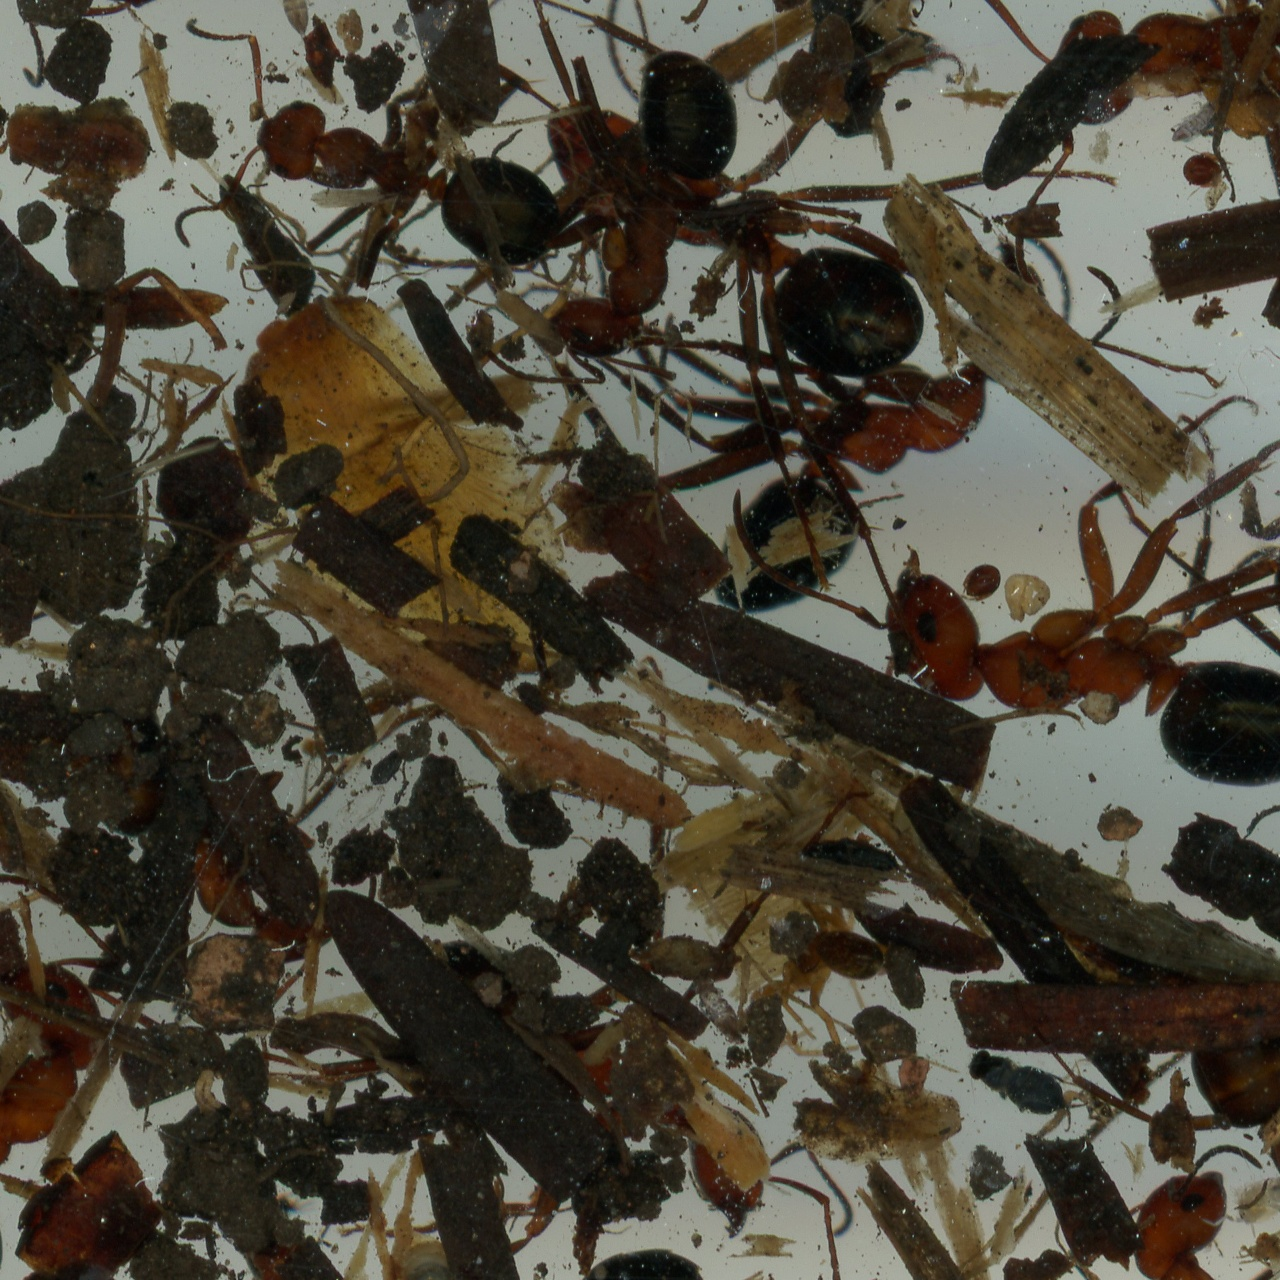arthropod: (473, 0, 1010, 462), (719, 389, 1280, 797), (322, 969, 941, 1280), (456, 6, 764, 423), (169, 9, 592, 294), (900, 0, 1280, 289), (686, 355, 1003, 619), (327, 1182, 953, 1280), (0, 898, 148, 1280), (0, 0, 353, 152), (1095, 1039, 1280, 1280), (1061, 1129, 1280, 1280), (211, 0, 576, 57), (958, 1045, 1091, 1135), (1208, 1148, 1280, 1254), (686, 966, 757, 1058), (1159, 89, 1231, 159), (389, 1222, 464, 1280), (955, 554, 1010, 612), (260, 0, 324, 41), (1179, 153, 1231, 191)
